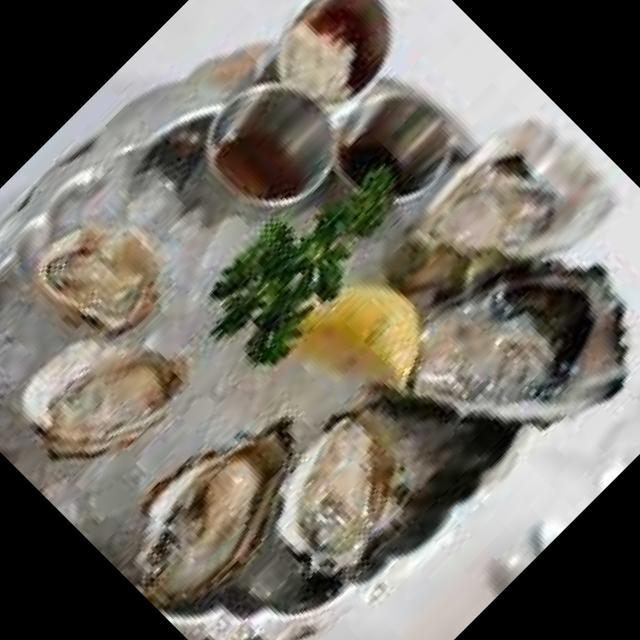Oyster-Open: (375, 195, 640, 510), (356, 92, 640, 376), (91, 368, 358, 635), (232, 367, 474, 609), (5, 288, 214, 496), (23, 188, 199, 364)
